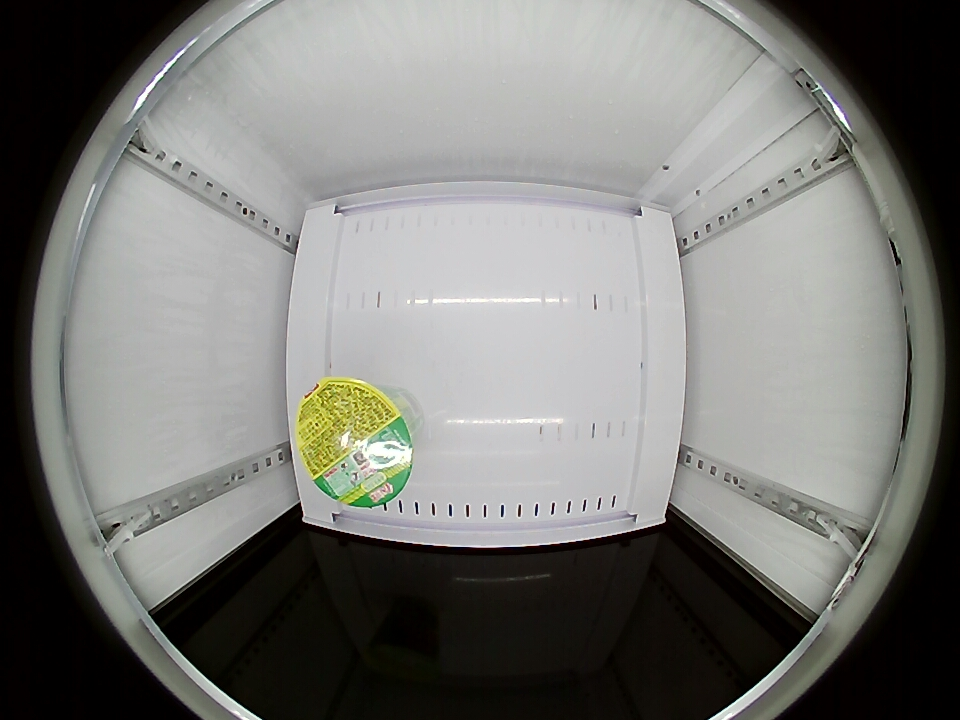heweidao2: (295, 377, 414, 508)
